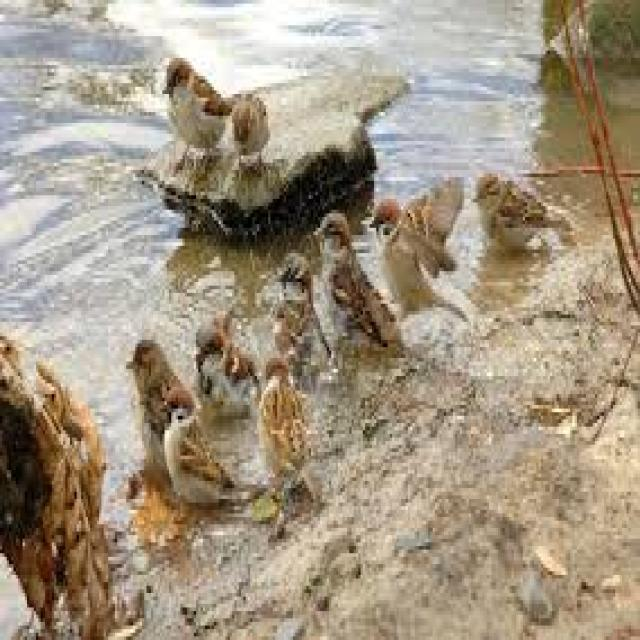bird: (371, 171, 473, 316), (315, 207, 410, 353), (156, 388, 254, 511), (271, 241, 331, 382), (124, 336, 193, 450), (477, 170, 562, 262), (260, 354, 314, 487), (160, 57, 230, 153), (190, 327, 261, 409), (228, 74, 276, 194)
